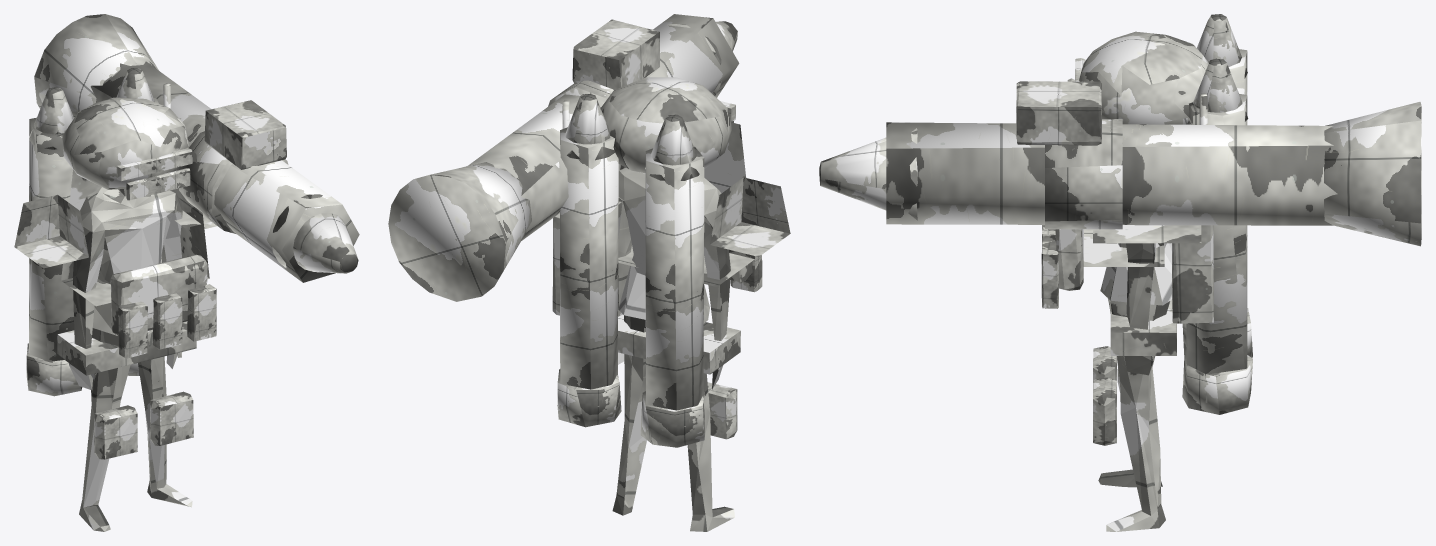
Rendered from rocket_soldier_lod.glb.
3 renders of one model, left to right at view 1: azimuth 30°, elevation 25°; view 2: azimuth 150°, elevation 25°; view 3: azimuth 270°, elevation 25°, orthographic. The views are drawn at different scales.
Parts seen in each view (by area): view 1: rocket_soldier_lod_team_primary; view 2: rocket_soldier_lod_team_primary; view 3: rocket_soldier_lod_team_primary.
Part boxes in pixels (box(x1,y1,x2,y2)): rocket_soldier_lod_team_primary: box(14, 14, 359, 531); rocket_soldier_lod_team_primary: box(388, 14, 790, 531); rocket_soldier_lod_team_primary: box(819, 14, 1421, 531).
Size of the model in its own units: 0.892 by 1.46 by 1.71.
1 material, 1 textured.
